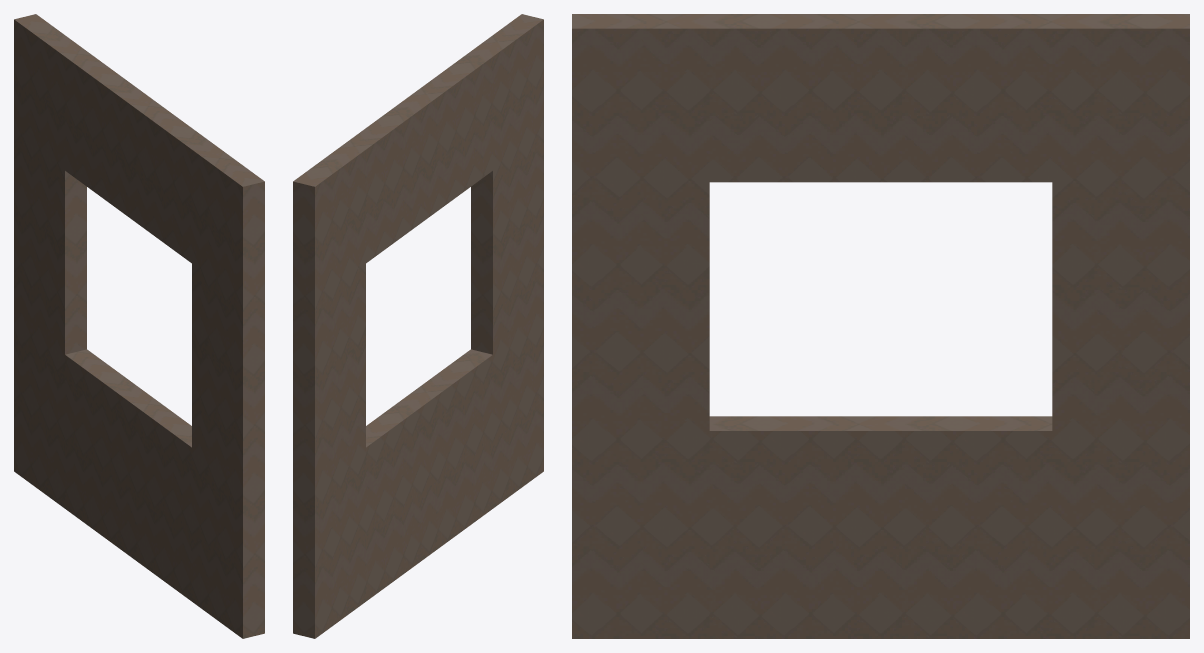
Rendered from soupwindwall035.obj.
3 renders of one model, left to right at view 1: azimuth 30°, elevation 25°; view 2: azimuth 150°, elevation 25°; view 3: azimuth 270°, elevation 25°, orthographic. The views are drawn at different scales.
Visible parts, largest first — view 1: soupwindwall035_high_1; view 2: soupwindwall035_high_1; view 3: soupwindwall035_high_1.
Part boxes in pixels (x1=…): soupwindwall035_high_1: x1=14, y1=14, x2=264, y2=638; soupwindwall035_high_1: x1=293, y1=14, x2=543, y2=638; soupwindwall035_high_1: x1=572, y1=14, x2=1189, y2=638.
Size of the model in its own units: 0.1504 by 2.95 by 2.7.
